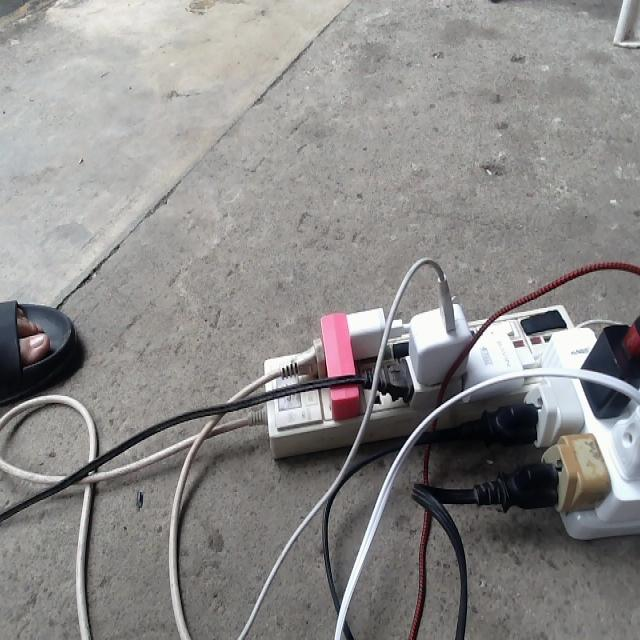-: (257, 256, 639, 541)
